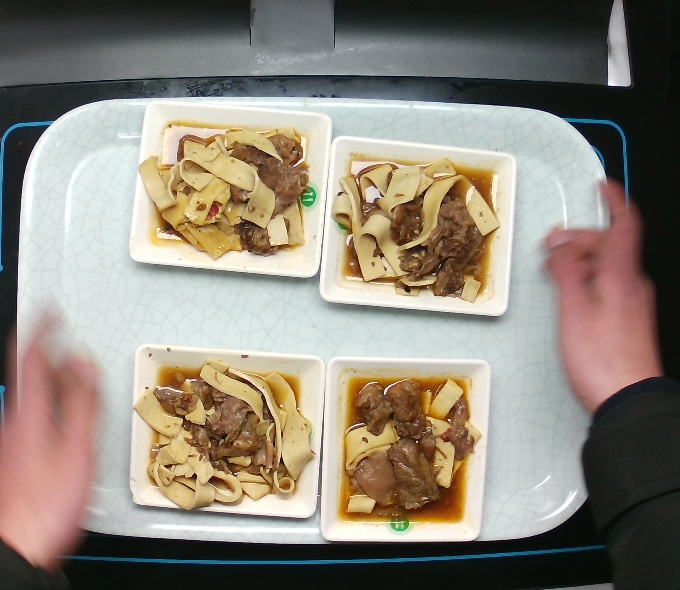wcq-QianZhangNiuNan: (133, 352, 316, 510), (333, 148, 512, 305), (138, 116, 317, 260), (339, 371, 477, 526)
